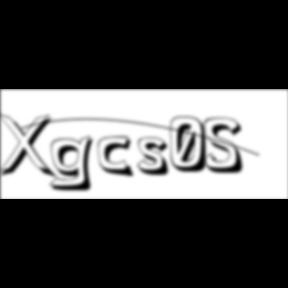0: (170, 115, 214, 174)
S: (204, 117, 250, 176)
X: (1, 112, 60, 182)
c: (99, 136, 139, 180)
g: (49, 134, 101, 194)
s: (138, 137, 176, 179)
